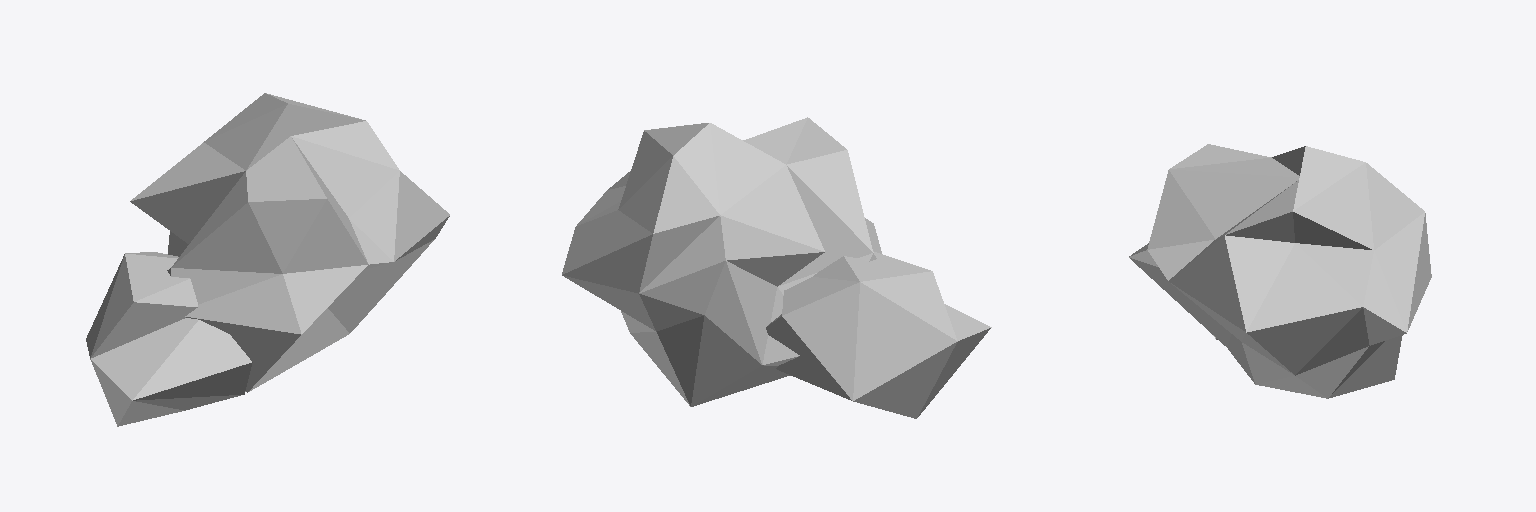
File: rock2.obj
3 views of the same model, side by side, from view 1: azimuth 30°, elevation 25°; view 2: azimuth 150°, elevation 25°; view 3: azimuth 270°, elevation 25° (orthographic).
Visible parts, largest first — view 1: Icosphere.008_Icosphere.016; view 2: Icosphere.008_Icosphere.016; view 3: Icosphere.008_Icosphere.016.
Boxes of the visible parts, <box> form: Icosphere.008_Icosphere.016: <box>86,93,449,426</box>; Icosphere.008_Icosphere.016: <box>562,117,991,418</box>; Icosphere.008_Icosphere.016: <box>1129,144,1431,398</box>.
Bounding box in the file's own units: 2.19 × 1.56 × 1.62.